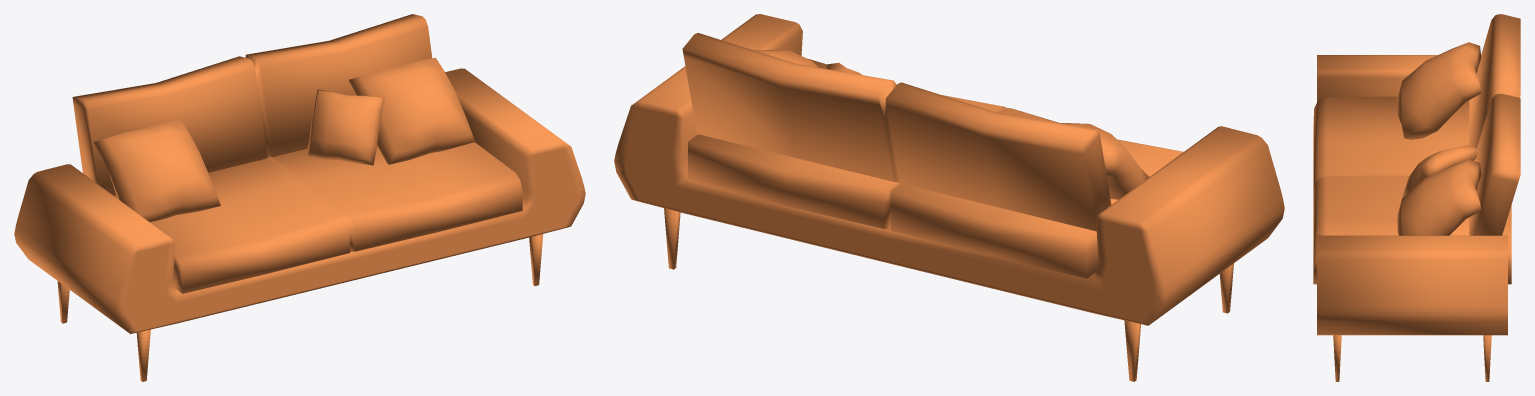
Rendered from S_Sofa.glb.
3 views of the same model, side by side, from view 1: azimuth 30°, elevation 25°; view 2: azimuth 150°, elevation 25°; view 3: azimuth 270°, elevation 25° (orthographic). The views are drawn at different scales.
Parts seen in each view (by area): view 1: S_Sofa_low, S_SofaPillows_00_low, S_SofaPillows_01_low, S_SofaPillows02_low; view 2: S_Sofa_low, S_SofaPillows_00_low; view 3: S_Sofa_low, S_SofaPillows_00_low, S_SofaPillows_01_low, S_SofaPillows02_low.
Part boxes in pixels (x1,y1,x2,y2): S_Sofa_low: (14,14,585,381); S_SofaPillows_00_low: (93,120,220,221); S_SofaPillows_01_low: (348,57,475,164); S_SofaPillows02_low: (306,89,384,165); S_Sofa_low: (614,14,1284,381); S_SofaPillows_00_low: (1057,123,1148,199); S_Sofa_low: (1313,14,1520,381); S_SofaPillows_00_low: (1397,42,1481,139); S_SofaPillows_01_low: (1397,159,1481,235); S_SofaPillows02_low: (1402,145,1477,197).
Bounding box in the file's own units: 1.8 × 0.7736 × 0.7314.
